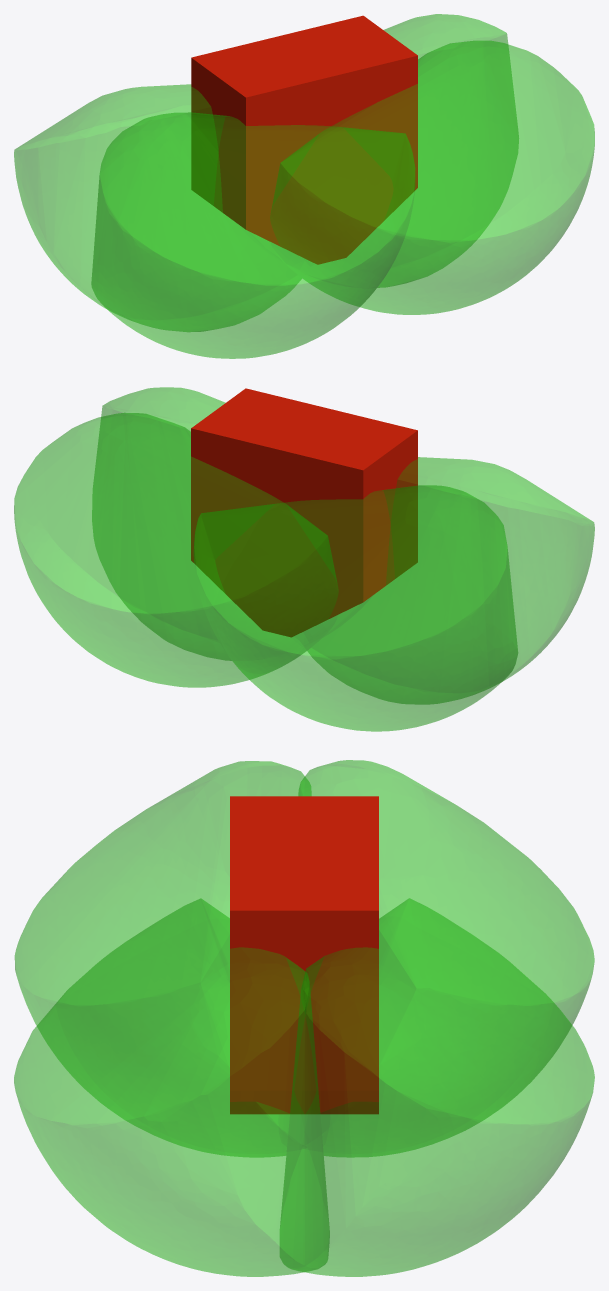
File: anymal_all_visual.dae
3 renders of one model, top to bottom at view 1: azimuth 30°, elevation 25°; view 2: azimuth 150°, elevation 25°; view 3: azimuth 270°, elevation 25°, orthographic. The views are drawn at different scales.
Parts seen in each view (by area): view 1: RHleg_vN_Rom, RFleg_vN_Rom, LHleg_vN_Rom, Anymal_All, LFleg_vN_Rom; view 2: LHleg_vN_Rom, LFleg_vN_Rom, RHleg_vN_Rom, Anymal_All, RFleg_vN_Rom; view 3: RFleg_vN_Rom, LFleg_vN_Rom, RHleg_vN_Rom, LHleg_vN_Rom, Anymal_All.
Boxes of the visible parts, bbox=[...] form: RHleg_vN_Rom: bbox=[91, 112, 414, 358]; RFleg_vN_Rom: bbox=[270, 40, 594, 314]; LHleg_vN_Rom: bbox=[14, 84, 305, 331]; Anymal_All: bbox=[191, 15, 417, 264]; LFleg_vN_Rom: bbox=[377, 14, 518, 287]; LHleg_vN_Rom: bbox=[194, 485, 518, 731]; LFleg_vN_Rom: bbox=[14, 412, 337, 687]; RHleg_vN_Rom: bbox=[304, 457, 594, 704]; Anymal_All: bbox=[191, 388, 417, 637]; RFleg_vN_Rom: bbox=[92, 387, 231, 660]; RFleg_vN_Rom: bbox=[14, 898, 329, 1276]; LFleg_vN_Rom: bbox=[280, 898, 594, 1276]; RHleg_vN_Rom: bbox=[14, 761, 311, 1157]; LHleg_vN_Rom: bbox=[298, 760, 594, 1157]; Anymal_All: bbox=[230, 796, 378, 1114].
Size of the model in its own units: 1.65 by 1.29 by 0.8334.
